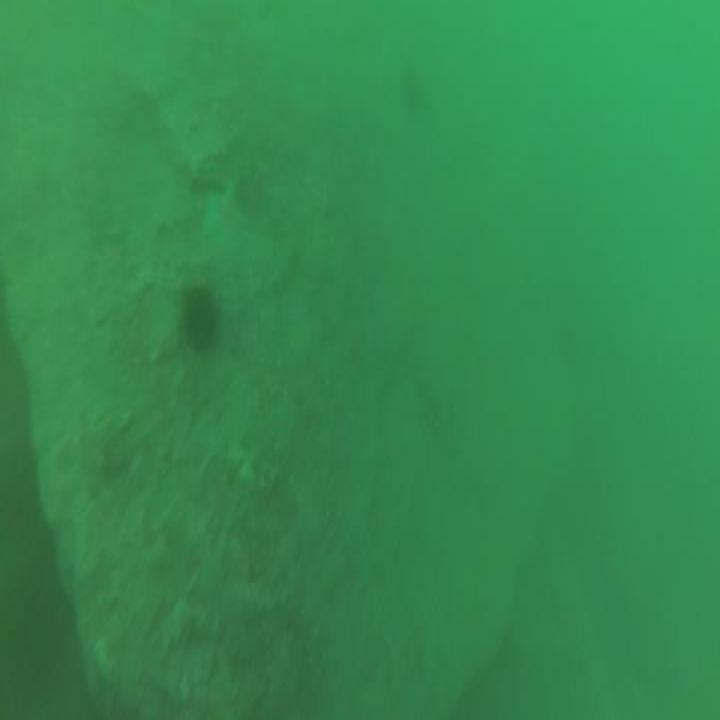echinus: (179, 288, 217, 354)
